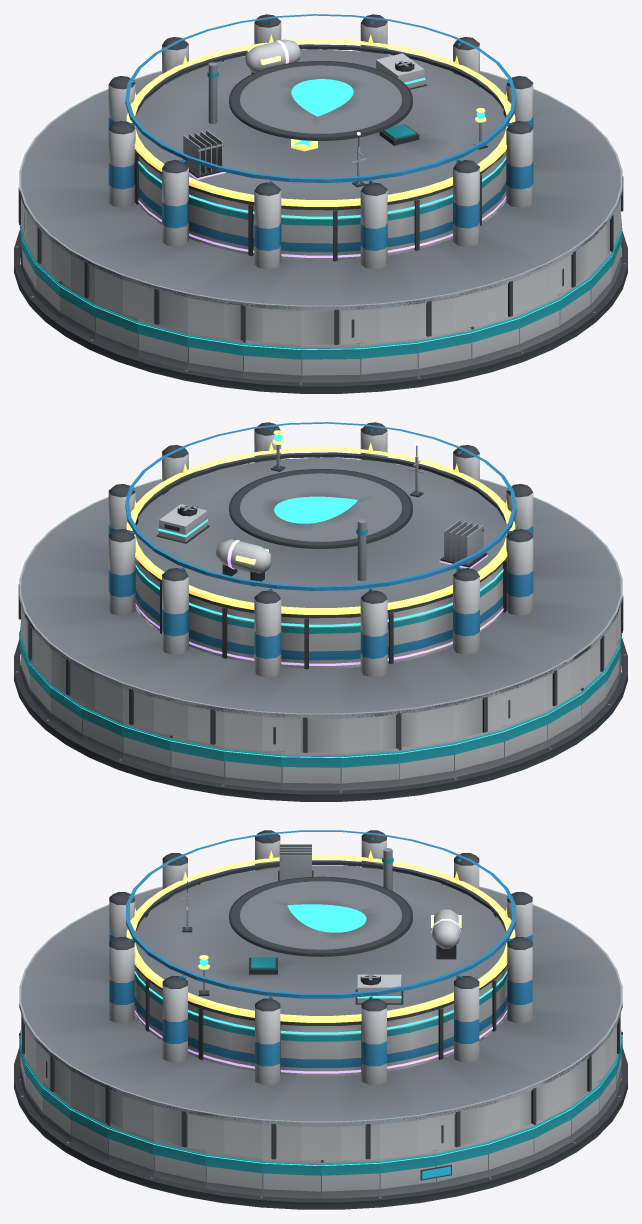
File: water_recycler_xl.glb
3 views of the same model, one above another, from view 1: azimuth 30°, elevation 25°; view 2: azimuth 150°, elevation 25°; view 3: azimuth 270°, elevation 25° (orthographic).
Parts seen in each view (by area): view 1: Roof, Base, L5, L4, Wall_21, Wall_20, Wall_22, Upper_20, Wall_19, Wall_23, Upper_22, Upper_19 (+20 smaller); view 2: Roof, Base, L5, L4, Wall_10, Wall_11, Wall_09, L3, Wall_12, Upper_11, Wall_08, Upper_10 (+20 smaller); view 3: Roof, Base, L5, L4, Wall_00, Wall_31, Wall_30, Wall_01, Wall_29, Upper_00, Upper_31, Upper_30 (+21 smaller).
Part boxes in pixels (box(x1,y1,x2,y2)): Roof: box(21, 14, 620, 305); Base: box(14, 199, 627, 393); L5: box(126, 34, 515, 206); L4: box(138, 39, 506, 257); Wall_21: box(301, 343, 360, 382); Wall_20: box(243, 340, 301, 382); Wall_22: box(360, 338, 417, 381); Upper_20: box(242, 303, 301, 344); Wall_19: box(187, 331, 243, 378); Wall_23: box(417, 327, 471, 375); Upper_22: box(360, 300, 417, 342); Upper_19: box(187, 294, 242, 340); Roof: box(21, 422, 620, 713); Base: box(14, 607, 627, 801); L5: box(126, 430, 515, 614); L4: box(135, 519, 503, 665); Wall_10: box(281, 751, 340, 790); Wall_11: box(340, 748, 398, 790); Wall_09: box(224, 746, 281, 789); L3: box(135, 504, 503, 626); Wall_12: box(398, 739, 454, 786); Upper_11: box(340, 711, 399, 752); Wall_08: box(170, 735, 224, 783); Upper_10: box(282, 714, 340, 752); Roof: box(21, 830, 620, 1121); Base: box(14, 1013, 627, 1209); L5: box(126, 850, 515, 1022); L4: box(134, 844, 507, 1073); Wall_00: box(321, 1158, 379, 1198); Wall_31: box(262, 1158, 320, 1198); Wall_30: box(205, 1150, 262, 1196); Wall_01: box(379, 1150, 436, 1196); Wall_29: box(153, 1139, 205, 1188); Upper_00: box(321, 1122, 379, 1160); Upper_31: box(262, 1122, 320, 1160); Upper_30: box(205, 1113, 262, 1157).
Bounding box in the file's own units: 18.96 × 6.6 × 18.96.
